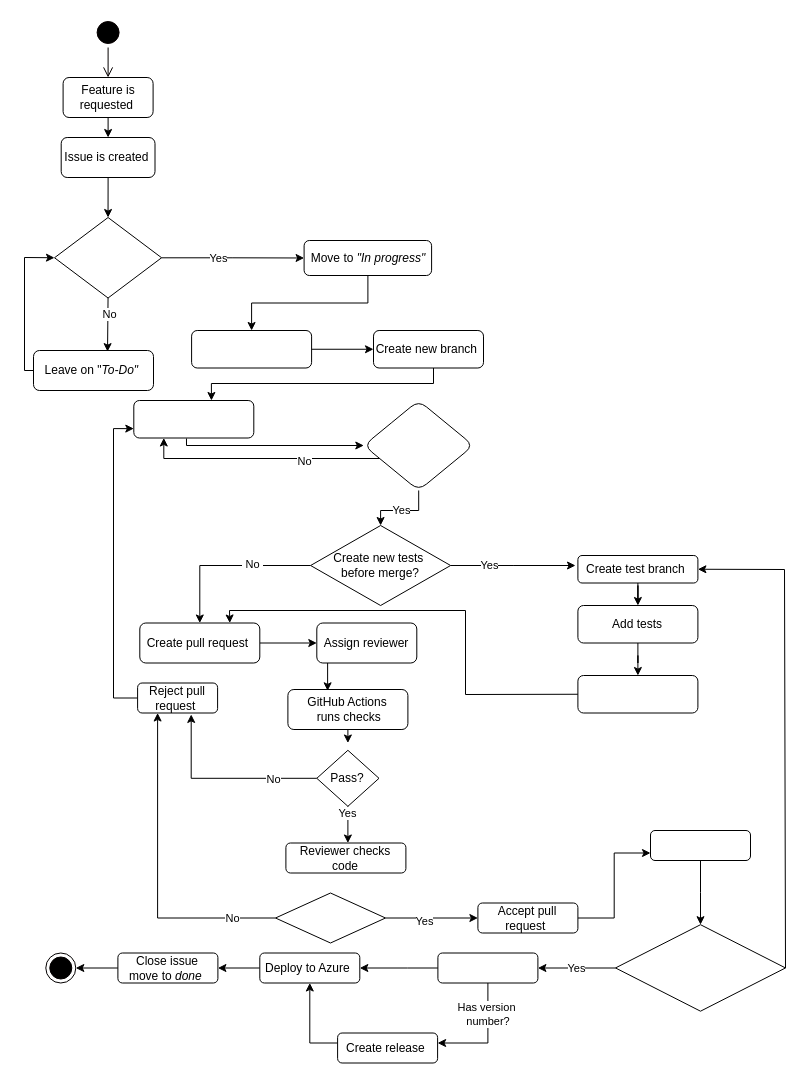
The diagram is 811 pixels wide and 1081 high, and some of its shapes have lost their labels. Each missing label, with the box of its shape:
Acceptance criteria fulfilled: (363, 400, 474, 490)
App ready for extension?: (54, 216, 162, 298)
Assign team member(s): (191, 330, 312, 368)
Does not have test yet?: (614, 924, 786, 1011)
Looks good?: (274, 892, 386, 943)
Merge test branch into issue branch: (577, 674, 698, 713)
Merge to main branch: (650, 830, 750, 860)
Run workflow checks: (437, 952, 538, 983)
Work on issue: (133, 400, 254, 438)
